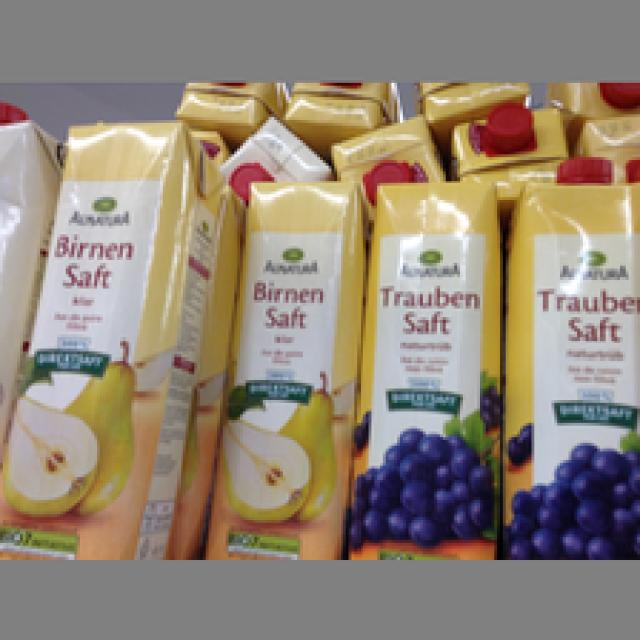groceries: (3, 117, 214, 554), (200, 177, 366, 554), (343, 166, 500, 551), (497, 151, 637, 560)
